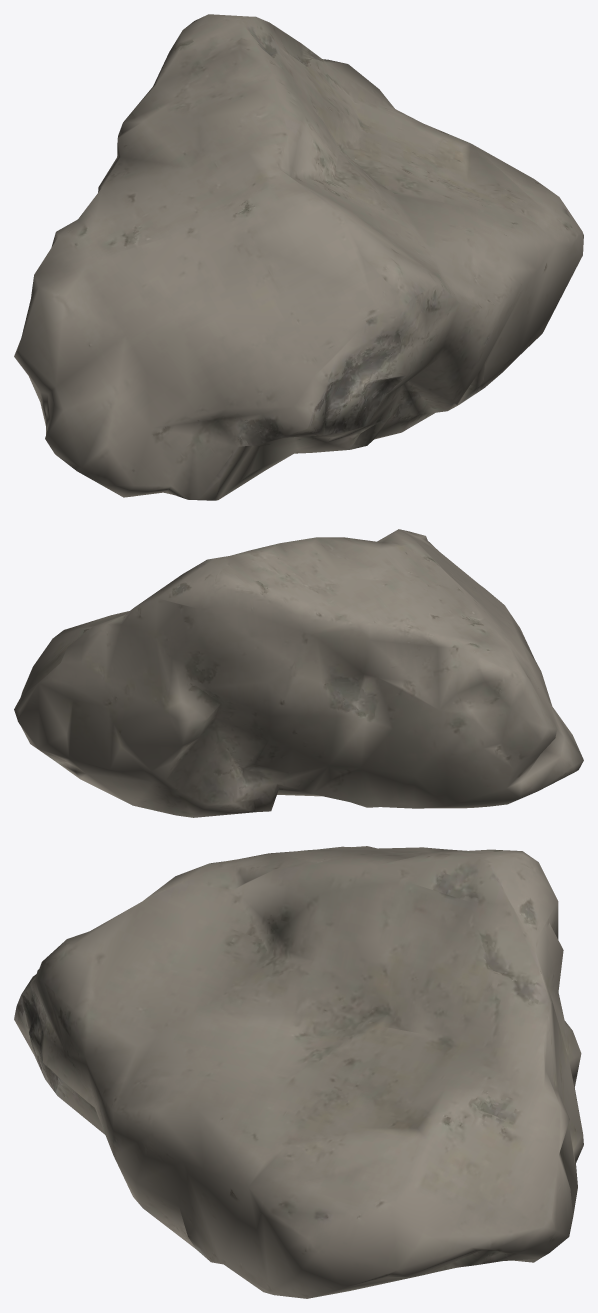
File: nat-moon-b.glb
3 views of the same model, one above another, from view 1: azimuth 30°, elevation 25°; view 2: azimuth 150°, elevation 25°; view 3: azimuth 270°, elevation 25° (orthographic). The views are drawn at different scales.
Visible parts, largest first — view 1: moon_rock_03_LOD0; view 2: moon_rock_03_LOD0; view 3: moon_rock_03_LOD0.
Part boxes in pixels (box(x1,y1,x2,y2)): moon_rock_03_LOD0: box(14, 14, 583, 500); moon_rock_03_LOD0: box(14, 529, 583, 817); moon_rock_03_LOD0: box(14, 846, 583, 1298).
Size of the model in its own units: 0.112 by 0.0582 by 0.0861.
Materials: 1 (1 with a texture image).
